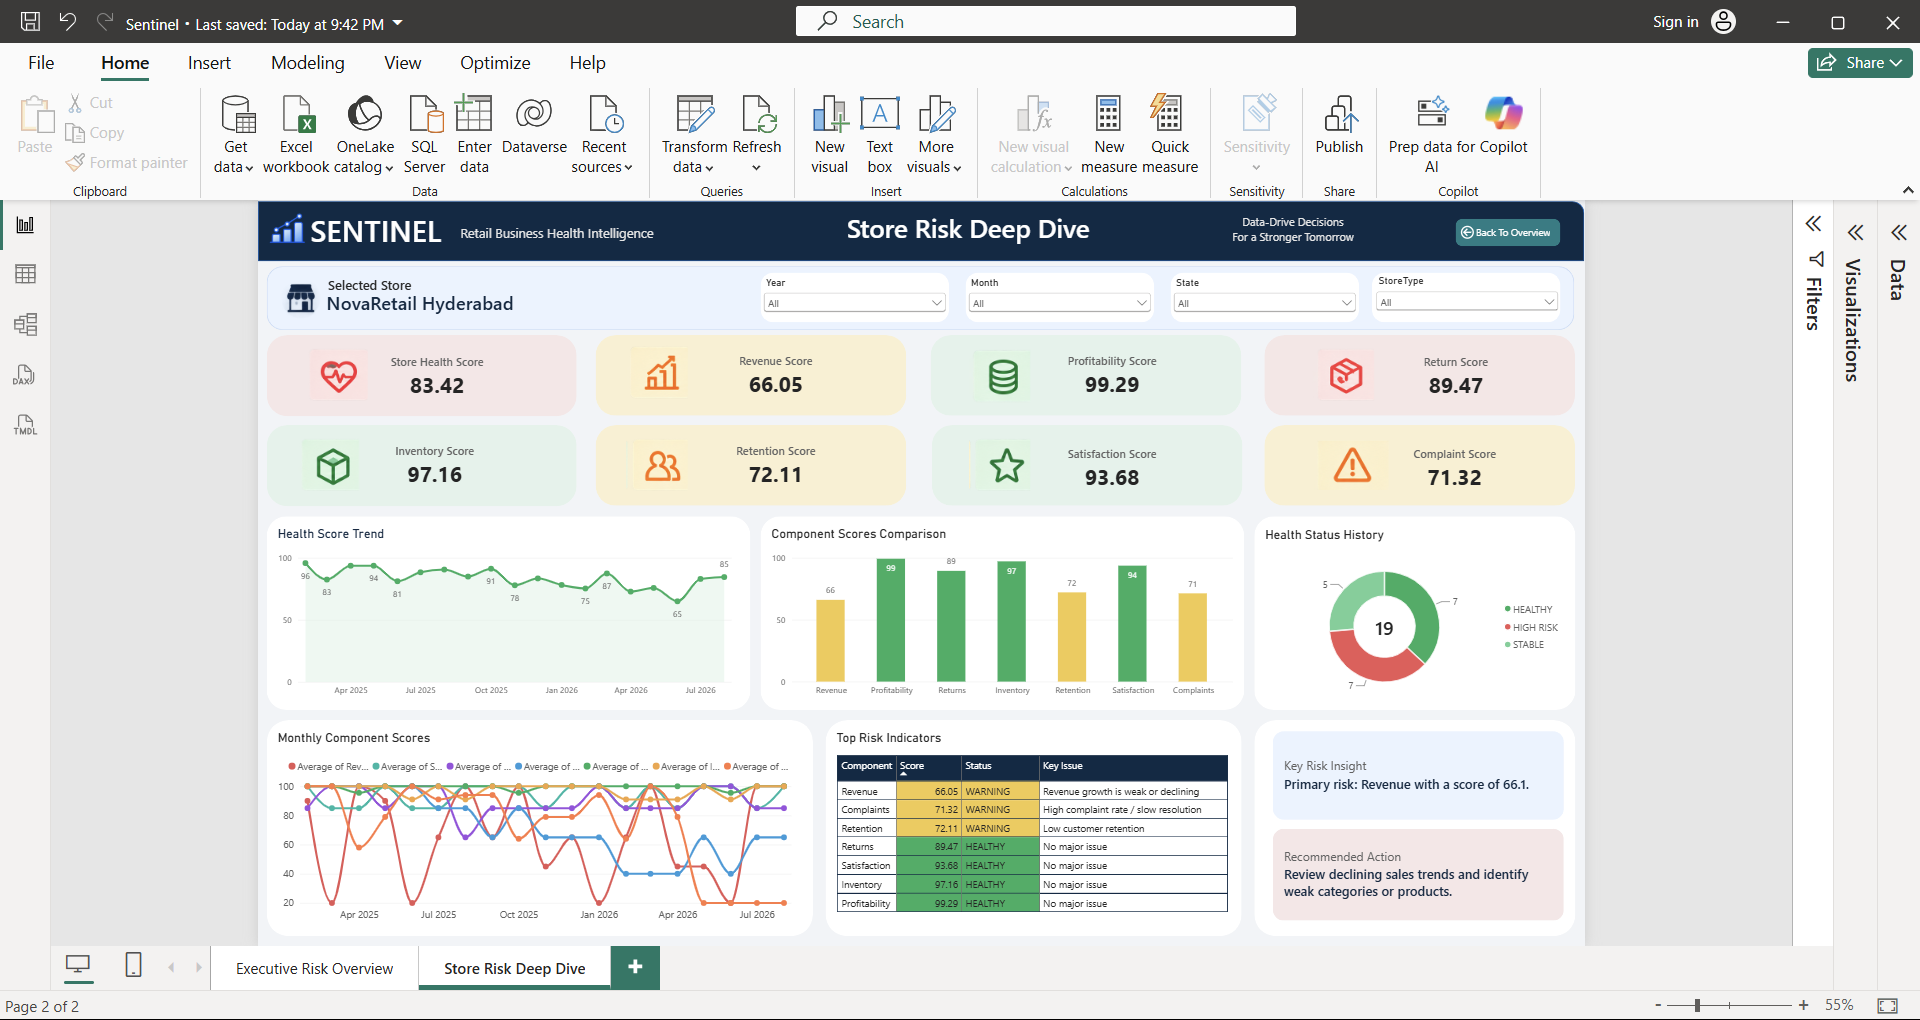

What the dashboard file says about the page in this screenshot:
{"tool":"powerbi","page":{"name":"Store Risk Deep Dive","canvas":[1920,1080],"ordinal":1},"visuals":[{"type":"shape","box":[0,1.8,1920.1,86.9],"z":0},{"type":"actionButton","box":[1733.7,27.1,152,39.8],"z":1000},{"type":"textbox","box":[76,14,209.9,65.1],"z":2000},{"type":"textbox","box":[294,34,298.6,45.2],"z":3000},{"type":"textbox","box":[852.4,14.5,398.1,65.1],"z":4000},{"type":"textbox","box":[1362.7,20,271.4,68.8],"z":5000},{"type":"shape","box":[12.7,95.9,1892.9,92.3],"z":6000},{"type":"image","box":[0,8,85.1,67],"z":7000},{"type":"image","box":[0,79.6,119.4,126.7],"z":8000},{"type":"textbox","box":[101.3,111,191.8,38],"z":9000},{"type":"cardVisual","fields":{"Data":["All Measures.Selected Store Name"]},"box":[83,119,351.1,56.1],"z":10000},{"type":"shape","box":[727,105,273.3,72.4],"z":11000},{"type":"shape","box":[1024.3,105,273.3,72.4],"z":12000},{"type":"shape","box":[1321.1,105,273.3,72.4],"z":13000},{"type":"shape","box":[1612.4,105,273.3,72.4],"z":14000},{"type":"slicer","fields":{"Values":["StoreHealthScores.Year"]},"box":[727.5,110.4,273.3,65.1],"z":15000},{"type":"slicer","fields":{"Values":["StoreHealthScores.Month"]},"box":[1024.3,110.4,273.3,65.1],"z":16000},{"type":"slicer","fields":{"Values":["Stores.State"]},"box":[1321.1,110.4,273.3,65.1],"z":17000},{"type":"slicer","fields":{"Values":["Stores.StoreType"]},"box":[1614.2,108.6,273.3,65.1],"z":18000},{"type":"shape","box":[12.7,195.4,448.8,117.6],"z":19000},{"type":"shape","box":[488.6,196,450,117],"z":20000},{"type":"shape","box":[973.6,196,450,117],"z":21000},{"type":"shape","box":[1456.8,196,450,117],"z":22000},{"type":"shape","box":[12.7,325.7,448.8,117.6],"z":23000},{"type":"shape","box":[488.6,325.7,450,117],"z":24000},{"type":"shape","box":[975.4,325.7,450,117],"z":25000},{"type":"shape","box":[1456.8,325.7,450,117],"z":26000},{"type":"cardVisual","fields":{"Data":["Avg(StoreHealthScores.BusinessHealthScore)"]},"box":[119.4,181,280.5,150.2],"z":27000},{"type":"image","box":[41.6,177.3,146.6,150.2],"z":28000},{"type":"image","box":[504.9,173.7,146.6,150.2],"z":29000},{"type":"cardVisual","fields":{"Data":["Avg(StoreHealthScores.RevenueScore)"]},"box":[609.9,179.2,280.5,150.2],"z":30000},{"type":"image","box":[1000.7,179.2,146.6,150.2],"z":31000},{"type":"cardVisual","fields":{"Data":["Avg(StoreHealthScores.ProfitabilityScore)"]},"box":[1096.7,179.2,280.5,150.2],"z":32000},{"type":"image","box":[1498.4,177.3,146.6,150.2],"z":33000},{"type":"cardVisual","fields":{"Data":["Avg(StoreHealthScores.ReturnScore)"]},"box":[1594.3,181,280.5,150.2],"z":34000},{"type":"image","box":[29,307.6,146.6,150.2],"z":35000},{"type":"cardVisual","fields":{"Data":["Avg(StoreHealthScores.InventoryScore)"]},"box":[115.8,309.5,280.5,150.2],"z":36000},{"type":"image","box":[504.9,307.6,146.6,150.2],"z":37000},{"type":"cardVisual","fields":{"Data":["Avg(StoreHealthScores.RetentionScore)"]},"box":[609.9,309.5,280.5,150.2],"z":38000},{"type":"image","box":[1000.7,307.6,146.6,150.2],"z":39000},{"type":"cardVisual","fields":{"Data":["Avg(StoreHealthScores.SatisfactionScore)"]},"box":[1096.7,314.9,280.5,150.2],"z":40000},{"type":"image","box":[1529.2,309.5,126.7,150.2],"z":41000},{"type":"cardVisual","fields":{"Data":["Avg(StoreHealthScores.ComplaintScore)"]},"box":[1592.5,314.9,280.5,150.2],"z":42000},{"type":"shape","box":[12.7,457.8,700.3,280.5],"z":43000},{"type":"shape","box":[727.5,457.8,700.3,280.5],"z":44000},{"type":"shape","box":[1442.3,457.8,465.1,280.5],"z":45000},{"type":"lineChart","title":"Health Score Trend","fields":{"Category":["StoreHealthScores.ScoreMonth"],"Y":["Avg(StoreHealthScores.BusinessHealthScore)"]},"box":[12.7,457.8,700.3,280.5],"z":46000},{"type":"clusteredColumnChart","title":"Component Scores Comparison","fields":{"Category":["Score Components.Component"],"Y":["All Measures.Component Score"]},"box":[727.5,457.8,700,280],"z":47000},{"type":"donutChart","title":"Health Status History","fields":{"Category":["StoreHealthScores.HealthStatus"],"Y":["Count(StoreHealthScores.ScoreMonth)"]},"box":[1442.3,459.7,465.1,280.5],"z":47001},{"type":"shape","box":[12.7,752.8,790.8,313.1],"z":47002},{"type":"lineChart","title":"Monthly Component Scores","fields":{"Category":["StoreHealthScores.ScoreMonth"],"Y":["Avg(StoreHealthScores.RevenueScore)","Avg(StoreHealthScores.SatisfactionScore)","Avg(StoreHealthScores.ReturnScore)","Avg(StoreHealthScores.RetentionScore)","Avg(StoreHealthScores.ProfitabilityScore)","Avg(StoreHealthScores.InventoryScore)","Avg(StoreHealthScores.ComplaintScore)"]},"box":[12.7,752.8,790.8,313.1],"z":47003},{"type":"shape","box":[821.6,752.8,602.6,313.1],"z":47004},{"type":"tableEx","title":"Top Risk Indicators","fields":{"Values":["Score Components.Component","All Measures.Component Score","All Measures.Component Status","All Measures.Component Key Issue"]},"box":[821.6,752.8,602.6,313.1],"z":47005},{"type":"shape","box":[1442.3,752.8,465.1,313.1],"z":47006},{"type":"cardVisual","title":"Key Risk Insight","fields":{"Data":["All Measures.Key Risk Insight"]},"box":[1469.4,769.1,421.7,128.5],"z":47007},{"type":"cardVisual","title":"Key Risk Insight","fields":{"Data":["All Measures.Recommended Action Deep Dive"]},"box":[1469.4,910.3,421.7,133.9],"z":47008}]}

Visuals, with their boxes on the page's 1920x1080 design canvas (x1, y1, x2, y2). These are canvas units, not pixel positions in the 1920x1020 screenshot, which may show the page scaled, cropped or inside an application window:
shape: x1=0, y1=2, x2=1920, y2=89
actionButton: x1=1734, y1=27, x2=1886, y2=67
textbox: x1=76, y1=14, x2=286, y2=79
textbox: x1=294, y1=34, x2=593, y2=79
textbox: x1=852, y1=14, x2=1250, y2=80
textbox: x1=1363, y1=20, x2=1634, y2=89
shape: x1=13, y1=96, x2=1906, y2=188
image: x1=0, y1=8, x2=85, y2=75
image: x1=0, y1=80, x2=119, y2=206
textbox: x1=101, y1=111, x2=293, y2=149
cardVisual - All Measures.Selected Store Name: x1=83, y1=119, x2=434, y2=175
shape: x1=727, y1=105, x2=1000, y2=177
shape: x1=1024, y1=105, x2=1298, y2=177
shape: x1=1321, y1=105, x2=1594, y2=177
shape: x1=1612, y1=105, x2=1886, y2=177
slicer - StoreHealthScores.Year: x1=728, y1=110, x2=1001, y2=176
slicer - StoreHealthScores.Month: x1=1024, y1=110, x2=1298, y2=176
slicer - Stores.State: x1=1321, y1=110, x2=1594, y2=176
slicer - Stores.StoreType: x1=1614, y1=109, x2=1888, y2=174
shape: x1=13, y1=195, x2=462, y2=313
shape: x1=489, y1=196, x2=939, y2=313
shape: x1=974, y1=196, x2=1424, y2=313
shape: x1=1457, y1=196, x2=1907, y2=313
shape: x1=13, y1=326, x2=462, y2=443
shape: x1=489, y1=326, x2=939, y2=443
shape: x1=975, y1=326, x2=1425, y2=443
shape: x1=1457, y1=326, x2=1907, y2=443
cardVisual - Avg(StoreHealthScores.BusinessHealthScore): x1=119, y1=181, x2=400, y2=331
image: x1=42, y1=177, x2=188, y2=328
image: x1=505, y1=174, x2=652, y2=324
cardVisual - Avg(StoreHealthScores.RevenueScore): x1=610, y1=179, x2=890, y2=329
image: x1=1001, y1=179, x2=1147, y2=329
cardVisual - Avg(StoreHealthScores.ProfitabilityScore): x1=1097, y1=179, x2=1377, y2=329
image: x1=1498, y1=177, x2=1645, y2=328
cardVisual - Avg(StoreHealthScores.ReturnScore): x1=1594, y1=181, x2=1875, y2=331
image: x1=29, y1=308, x2=176, y2=458
cardVisual - Avg(StoreHealthScores.InventoryScore): x1=116, y1=310, x2=396, y2=460
image: x1=505, y1=308, x2=652, y2=458
cardVisual - Avg(StoreHealthScores.RetentionScore): x1=610, y1=310, x2=890, y2=460
image: x1=1001, y1=308, x2=1147, y2=458
cardVisual - Avg(StoreHealthScores.SatisfactionScore): x1=1097, y1=315, x2=1377, y2=465
image: x1=1529, y1=310, x2=1656, y2=460
cardVisual - Avg(StoreHealthScores.ComplaintScore): x1=1592, y1=315, x2=1873, y2=465
shape: x1=13, y1=458, x2=713, y2=738
shape: x1=728, y1=458, x2=1428, y2=738
shape: x1=1442, y1=458, x2=1907, y2=738
"Health Score Trend" lineChart: x1=13, y1=458, x2=713, y2=738
"Component Scores Comparison" clusteredColumnChart: x1=728, y1=458, x2=1428, y2=738
"Health Status History" donutChart: x1=1442, y1=460, x2=1907, y2=740
shape: x1=13, y1=753, x2=804, y2=1066
"Monthly Component Scores" lineChart: x1=13, y1=753, x2=804, y2=1066
shape: x1=822, y1=753, x2=1424, y2=1066
"Top Risk Indicators" tableEx: x1=822, y1=753, x2=1424, y2=1066
shape: x1=1442, y1=753, x2=1907, y2=1066
"Key Risk Insight" cardVisual: x1=1469, y1=769, x2=1891, y2=898
"Key Risk Insight" cardVisual: x1=1469, y1=910, x2=1891, y2=1044
